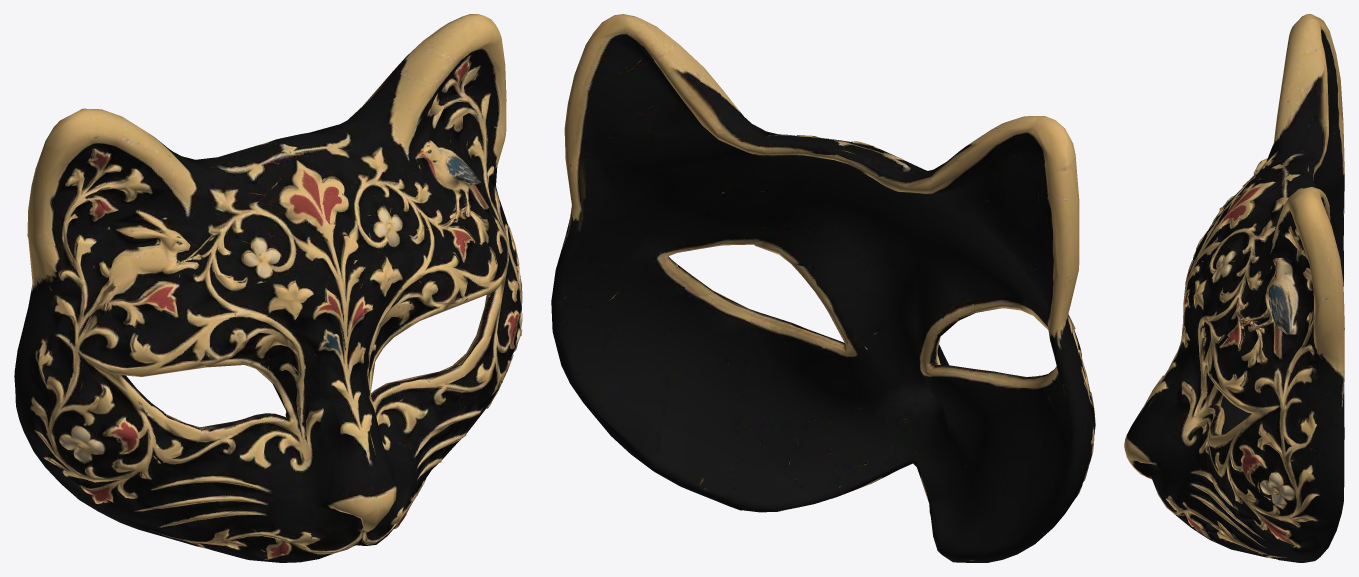
Rendered from mk3d5-1142bbeb.glb.
3 renders of one model, left to right at view 1: azimuth 30°, elevation 25°; view 2: azimuth 150°, elevation 25°; view 3: azimuth 270°, elevation 25°, orthographic. The views are drawn at different scales.
Bounding box in the file's own units: 1.9 × 1.66 × 0.7976.
Materials: 1 (1 with a texture image).
